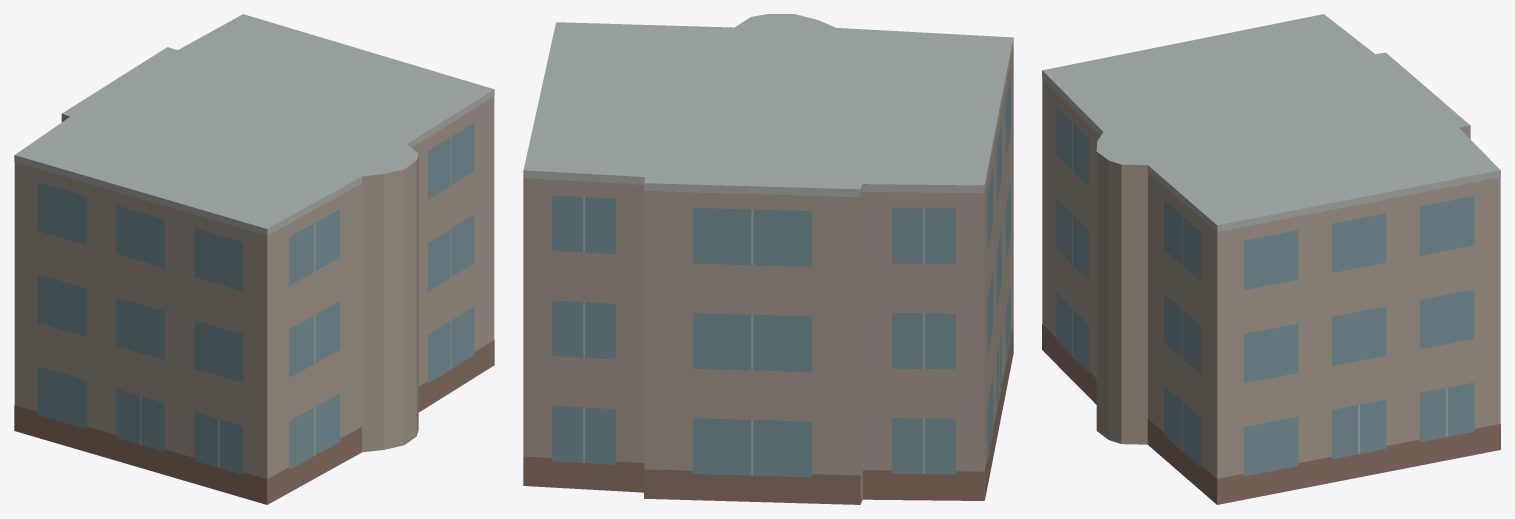
File: survey-upis-32911117.glb
3 views of the same model, side by side, from view 1: azimuth 30°, elevation 25°; view 2: azimuth 150°, elevation 25°; view 3: azimuth 270°, elevation 25° (orthographic). The views are drawn at different scales.
Visible parts, largest first — view 1: survey-upis-32911117.tmp; view 2: survey-upis-32911117.tmp; view 3: survey-upis-32911117.tmp.
Part boxes in pixels (box(x1,y1,x2,y2)): survey-upis-32911117.tmp: box(14, 14, 494, 504); survey-upis-32911117.tmp: box(523, 14, 1013, 504); survey-upis-32911117.tmp: box(1042, 14, 1500, 504).
Size of the model in its own units: 16.06 by 9.9 by 14.73.
